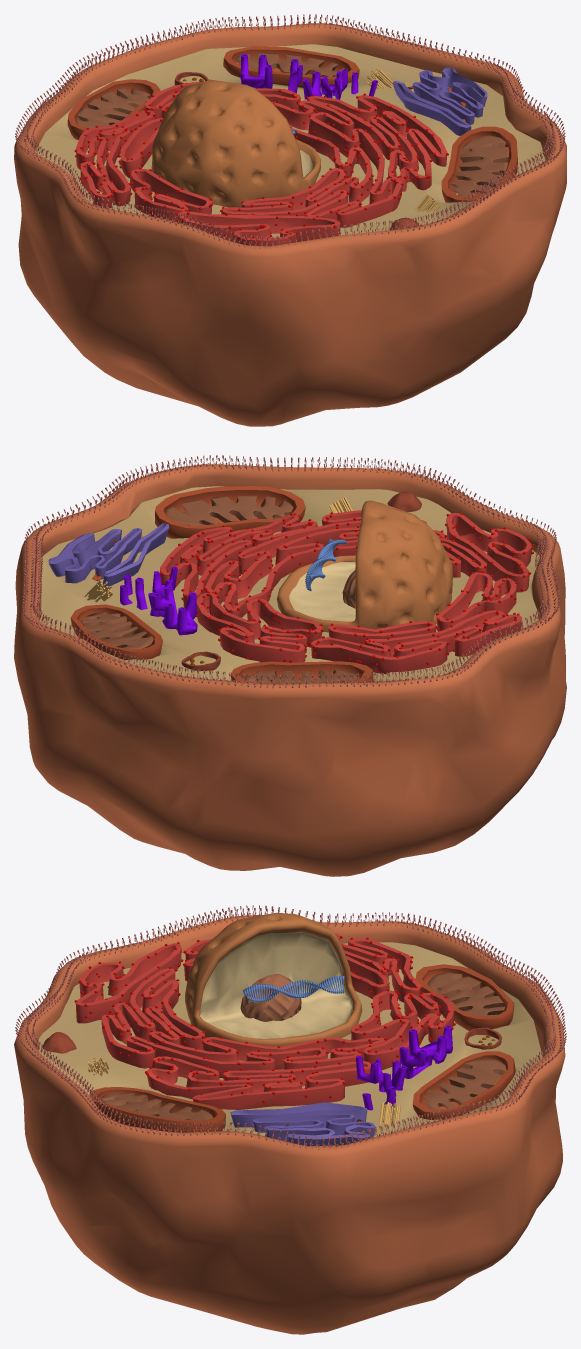
The model's file is human-cell-lite.glb.
3 renders of one model, top to bottom at view 1: azimuth 30°, elevation 25°; view 2: azimuth 150°, elevation 25°; view 3: azimuth 270°, elevation 25°, orthographic. The views are drawn at different scales.
Visible parts, largest first — view 1: Object_7, Object_33, Object_9, Object_6, Object_16, Object_14, Object_13, Object_20, Object_35, Object_28, Object_24; view 2: Object_7, Object_33, Object_6, Object_9, Object_16, Object_13, Object_14, Object_20, Object_35, Object_11, Object_28, Object_26 (+2 smaller); view 3: Object_7, Object_33, Object_6, Object_11, Object_16, Object_13, Object_9, Object_14, Object_20, Object_28, Object_35, Object_10 (+3 smaller).
Boxes of the visible parts, x1,y1,x2,y2 form: Object_7: [14, 23, 566, 426]; Object_33: [76, 82, 447, 246]; Object_9: [151, 79, 320, 207]; Object_6: [35, 44, 545, 237]; Object_16: [15, 14, 565, 248]; Object_14: [75, 53, 509, 196]; Object_13: [67, 46, 517, 202]; Object_20: [393, 67, 487, 135]; Object_35: [74, 85, 448, 244]; Object_28: [240, 54, 378, 99]; Object_24: [366, 69, 440, 212]; Object_7: [14, 464, 566, 876]; Object_33: [160, 510, 532, 673]; Object_6: [40, 486, 539, 681]; Object_9: [277, 500, 452, 632]; Object_16: [22, 455, 560, 688]; Object_13: [70, 486, 373, 682]; Object_14: [80, 495, 359, 683]; Object_20: [48, 523, 169, 587]; Object_35: [160, 512, 534, 665]; Object_11: [289, 561, 355, 621]; Object_28: [120, 566, 197, 635]; Object_26: [181, 491, 421, 670]; Object_7: [14, 915, 565, 1334]; Object_33: [75, 933, 454, 1109]; Object_6: [38, 942, 542, 1140]; Object_11: [200, 931, 353, 1038]; Object_16: [15, 905, 566, 1150]; Object_13: [89, 964, 515, 1132]; Object_9: [185, 912, 362, 1046]; Object_14: [101, 972, 506, 1120]; Object_20: [230, 1102, 376, 1146]; Object_28: [356, 1025, 452, 1110]; Object_35: [74, 936, 455, 1102]; Object_10: [240, 974, 301, 1021].
Size of the model in its own units: 1.9 by 1.21 by 1.85.
